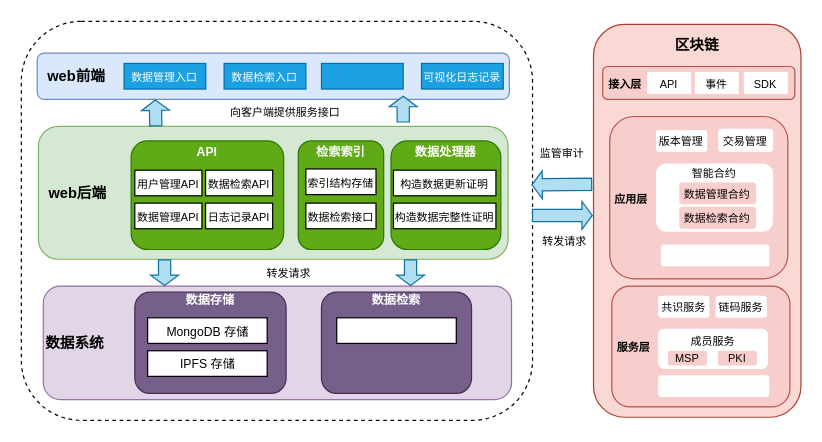
Image size: 822x442. Some labels were removed from this diagram. Each missing label, with the centre of its shape:
"安全及密码服务" belongs at [713,385].
"用户登录及鉴权" belongs at [361,75].
"索引优化" belongs at [396,330].
"身份管理" belongs at [714,255].
